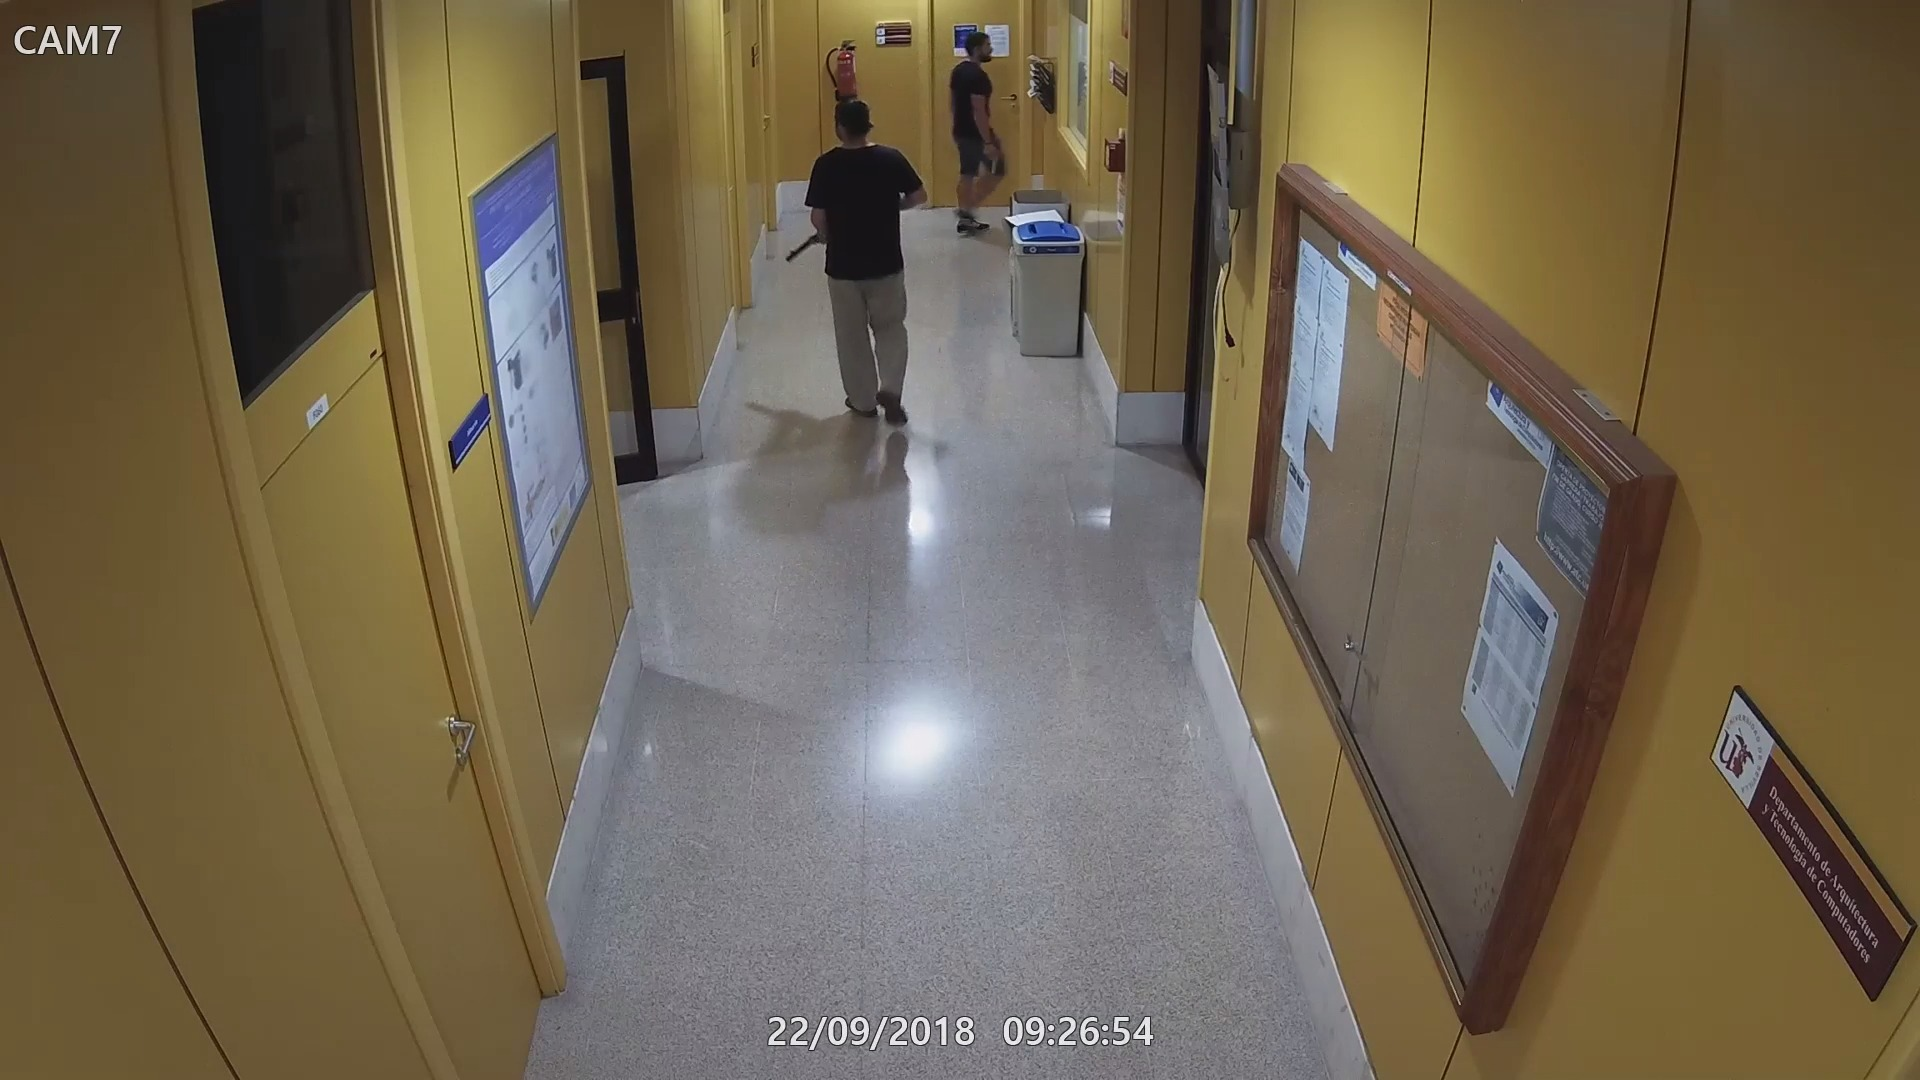Handgun: (977, 144, 1004, 175)
Short_rifle: (785, 227, 825, 262)
